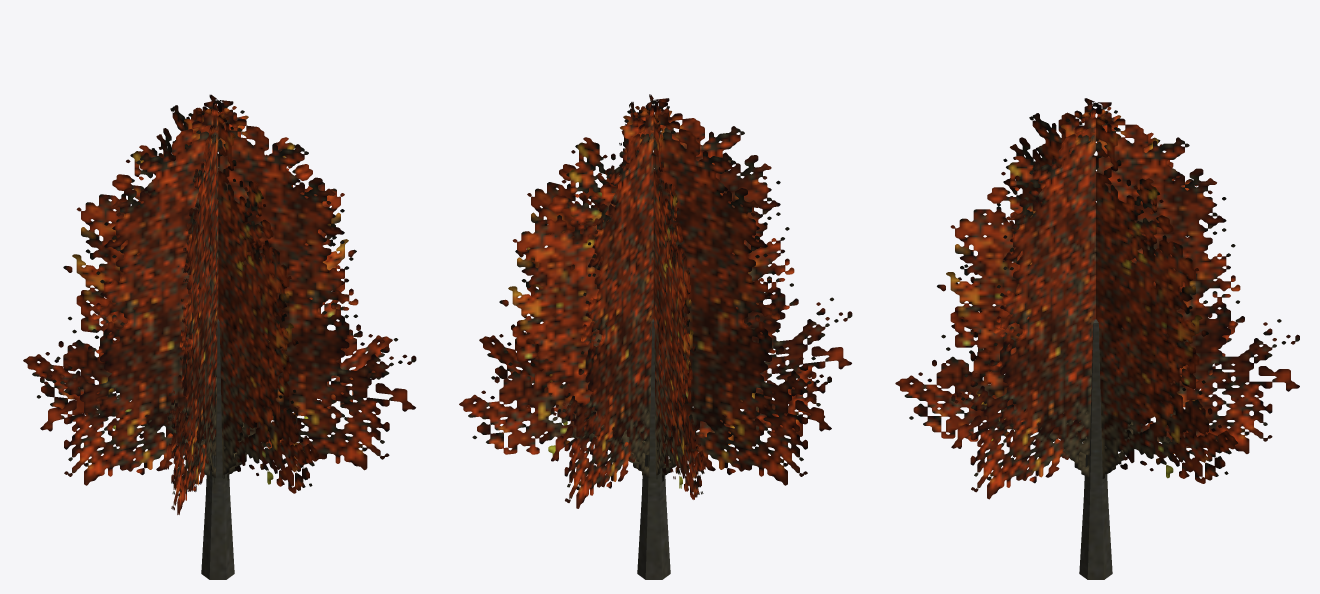
The model's file is tree28.glb.
3 renders of one model, left to right at view 1: azimuth 30°, elevation 25°; view 2: azimuth 150°, elevation 25°; view 3: azimuth 270°, elevation 25°, orthographic.
Visible parts, largest first — view 1: tree28; view 2: tree28; view 3: tree28.
Part boxes in pixels (x1,y1,x2,y2): tree28: (23, 94, 416, 579); tree28: (459, 94, 852, 579); tree28: (895, 98, 1299, 579).
Size of the model in its own units: 10.08 by 12.5 by 10.08.
1 material, 1 textured.
